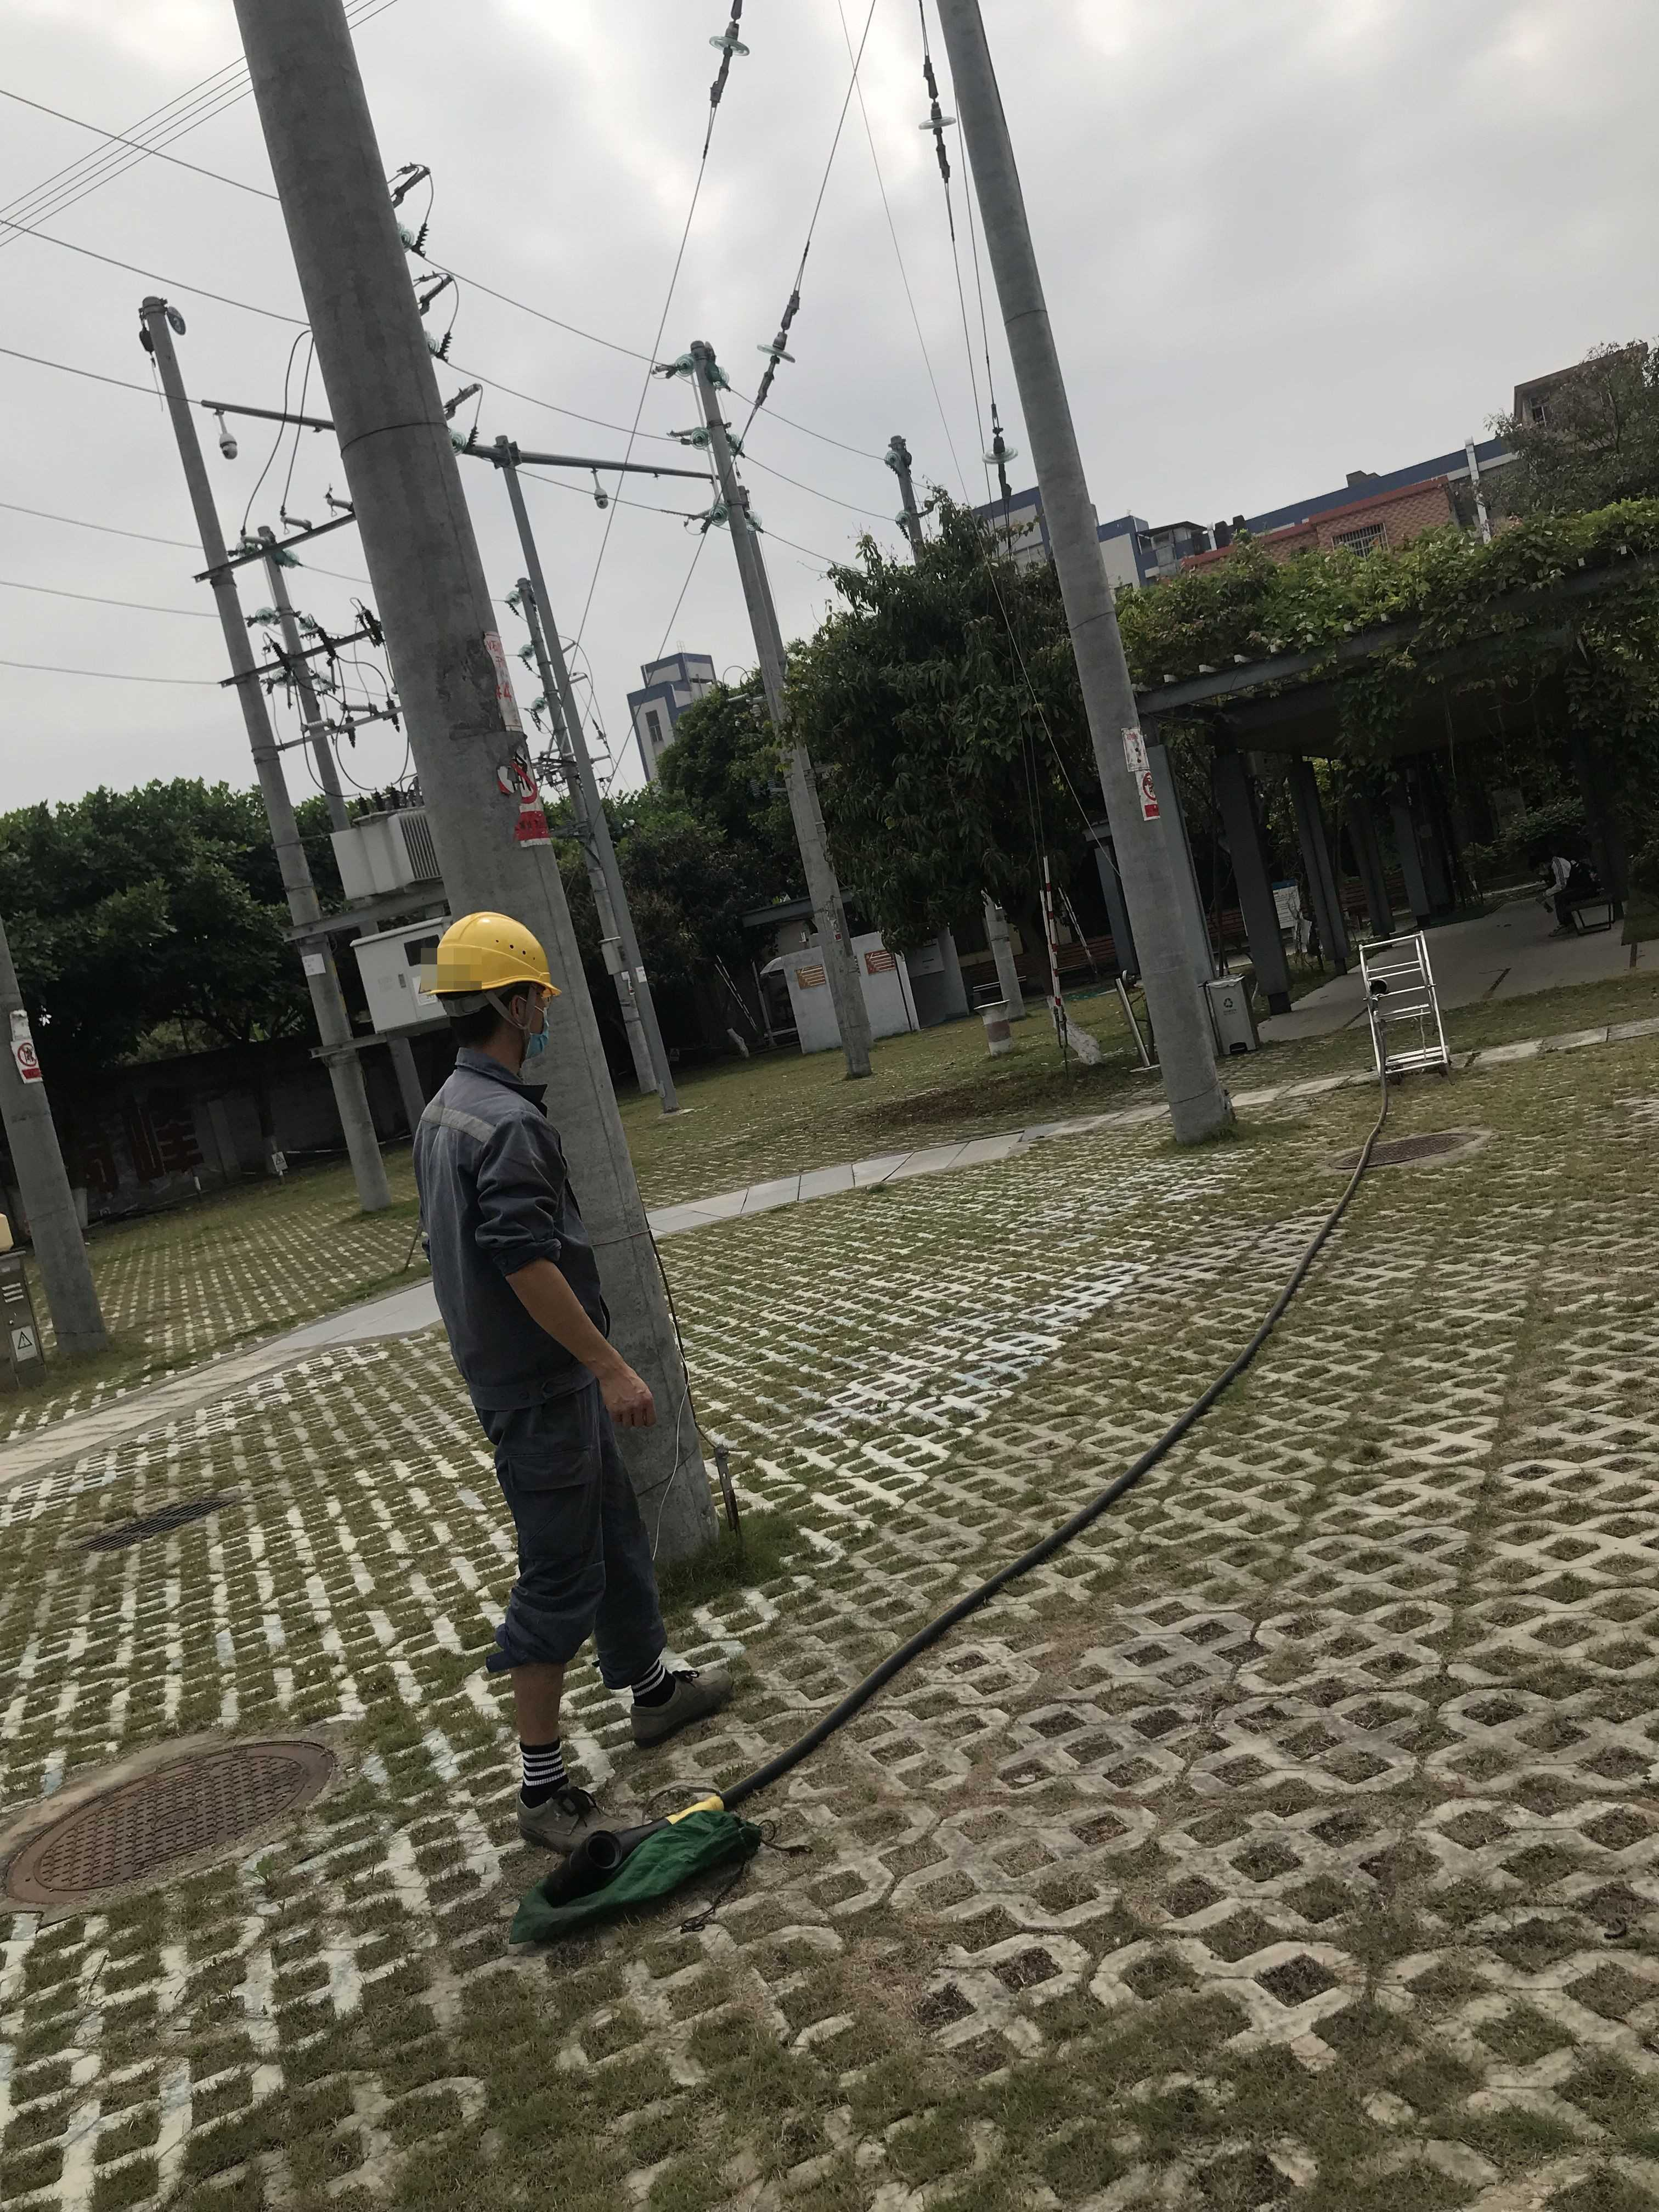downsuit: (477, 1413, 674, 1677)
upsuit: (413, 1052, 627, 1402)
wrongbottom: (491, 1613, 587, 1773)
wrongtop: (502, 1235, 660, 1426)
